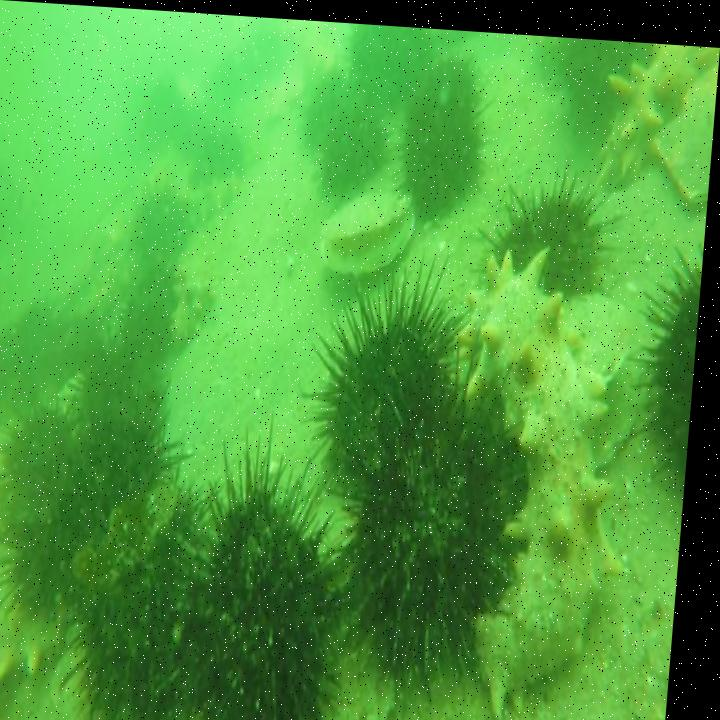echinus: (329, 386, 529, 703), (176, 414, 369, 720), (59, 456, 220, 720), (309, 260, 472, 499), (0, 394, 118, 615), (472, 166, 634, 295), (634, 219, 708, 484), (70, 375, 188, 532), (396, 67, 490, 218), (539, 29, 661, 138), (346, 18, 434, 117), (314, 99, 400, 199), (127, 171, 197, 279), (122, 278, 185, 377), (133, 62, 192, 159), (302, 59, 351, 164), (193, 119, 252, 186)
holothurian: (439, 242, 645, 720), (596, 32, 705, 188), (0, 412, 30, 720), (189, 165, 245, 236), (174, 268, 223, 347)
scallop: (552, 276, 645, 465), (653, 40, 720, 205), (319, 183, 423, 273)
